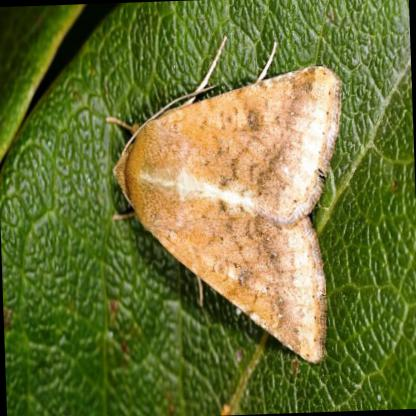helicoverpa: (115, 67, 343, 366)
